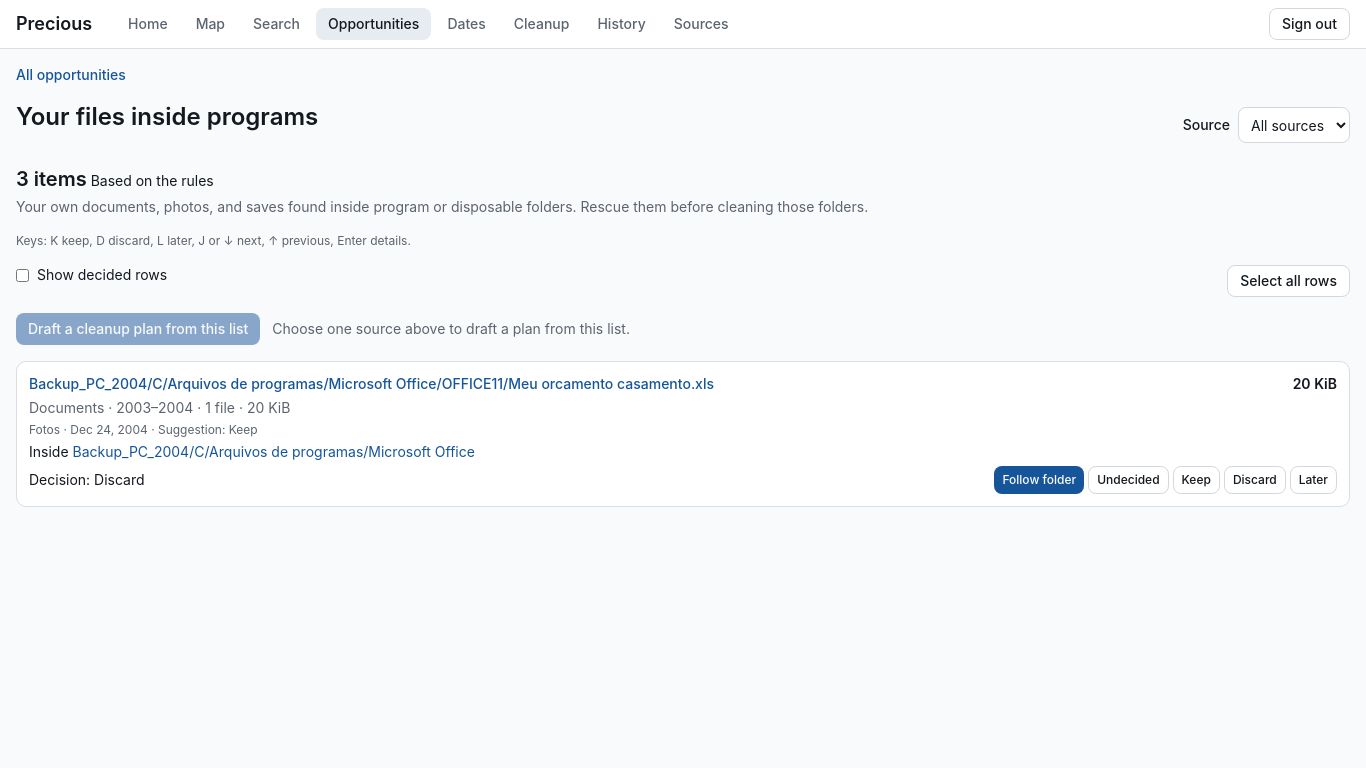
Scenario: Review list › names the group a rescue row sits inside, links it on the Map, and selects all
The image size is (1366, 768).
Expected: the list item shows "Decision: Discard", [29,471,145,488]
Expected: the text "3 items Based on the rules" is shown, [16,167,214,191]
Click the button "Select all rows". click: (1289, 281)
box: [1227,265,1350,297]
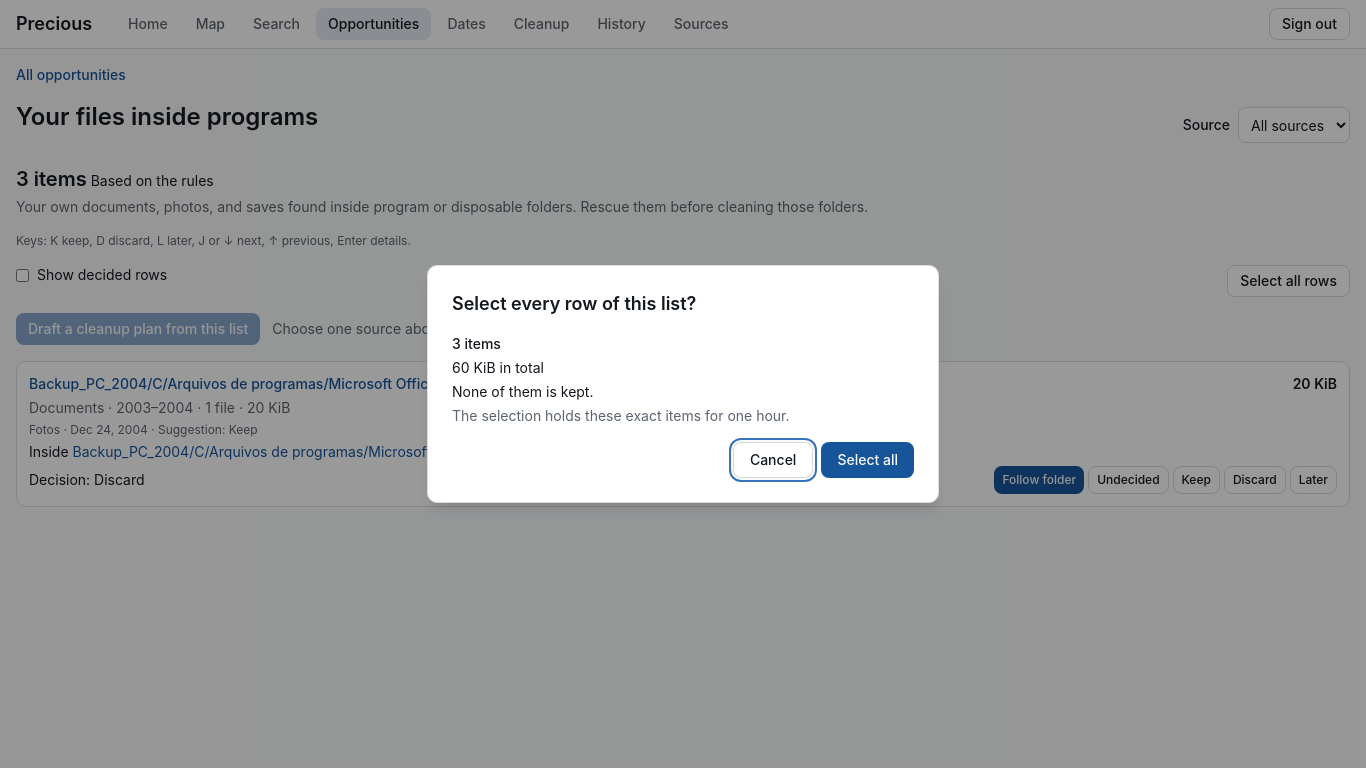
Result: the dialog "Select every row of this list?" is shown at [427,265,939,503]
